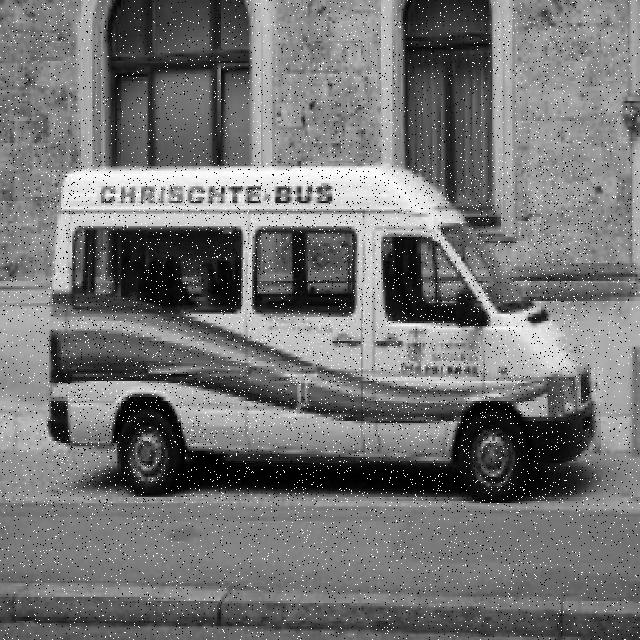Van: (47, 166, 596, 503)
